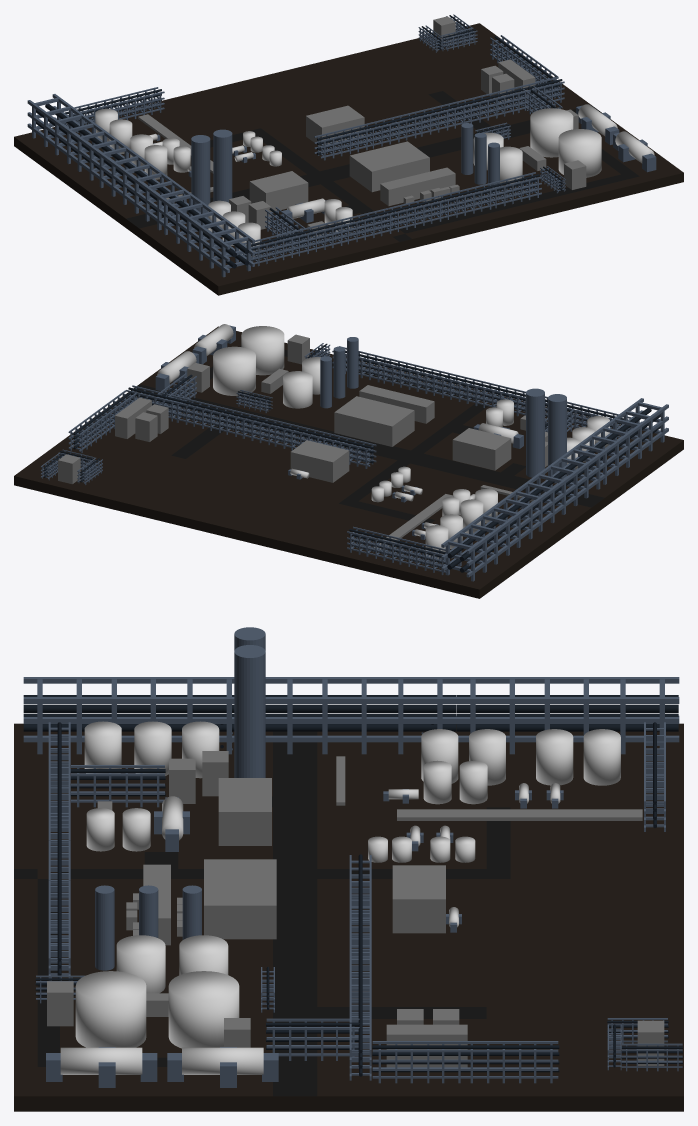
File: Utility.fbx
3 renders of one model, top to bottom at view 1: azimuth 30°, elevation 25°; view 2: azimuth 150°, elevation 25°; view 3: azimuth 270°, elevation 25°, orthographic. The views are drawn at different scales.
Parts seen in each view (by area): view 1: Utility; view 2: Utility; view 3: Utility.
Boxes of the visible parts, <box> form: Utility: <box>14,14,683,295</box>; Utility: <box>14,324,683,598</box>; Utility: <box>14,627,683,1111</box>.
Size of the model in its own units: 99.7 by 18.57 by 75.77.
